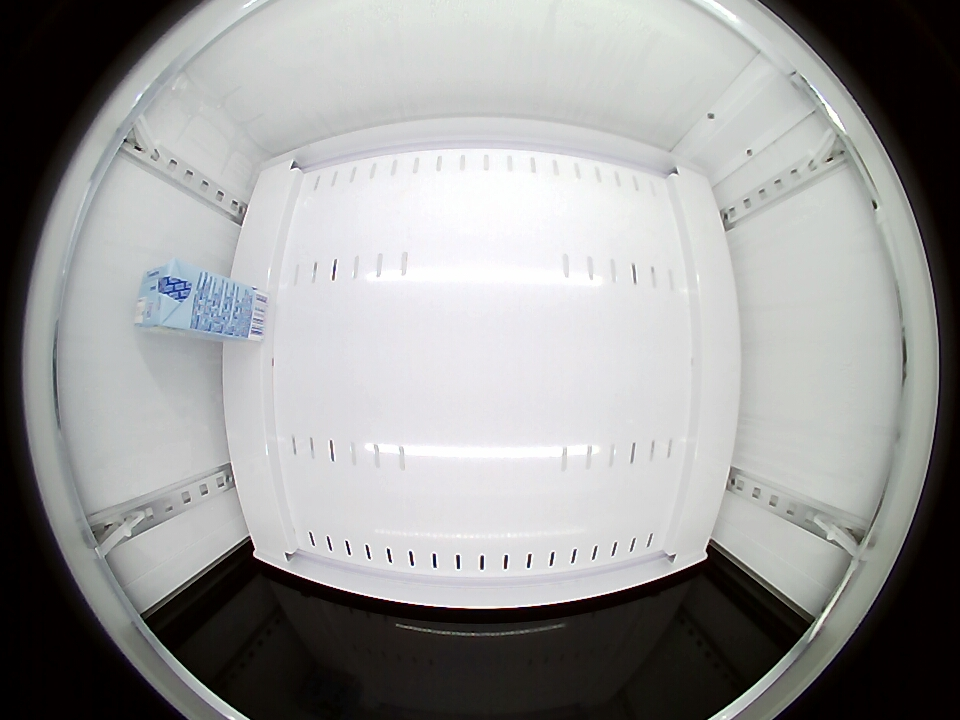weitanaiditang: (135, 260, 202, 334)
